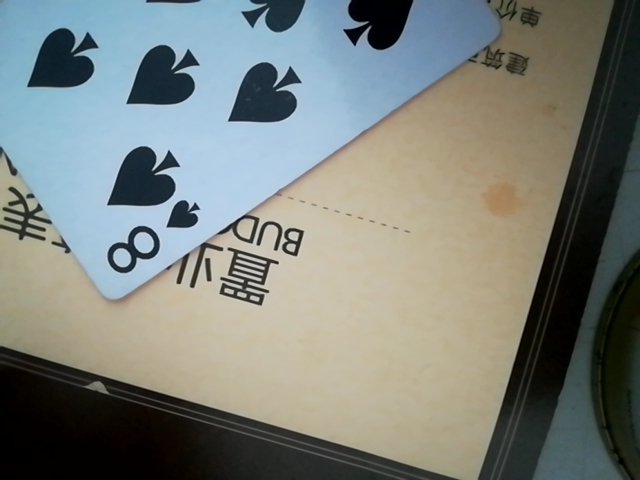ht 8: (0, 0, 504, 312)
